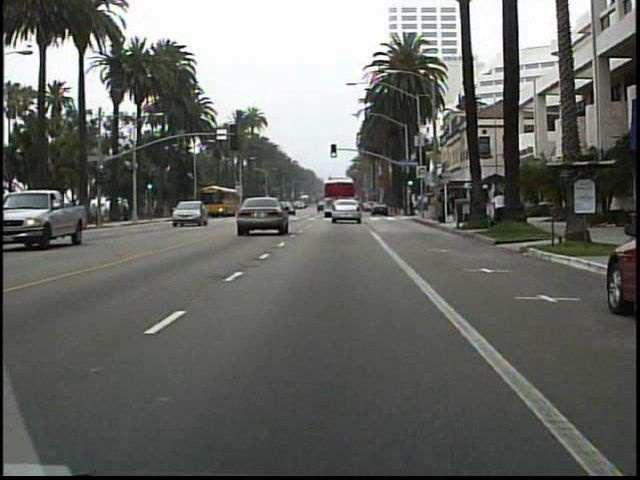person: (491, 188, 508, 226), (446, 190, 461, 227)
